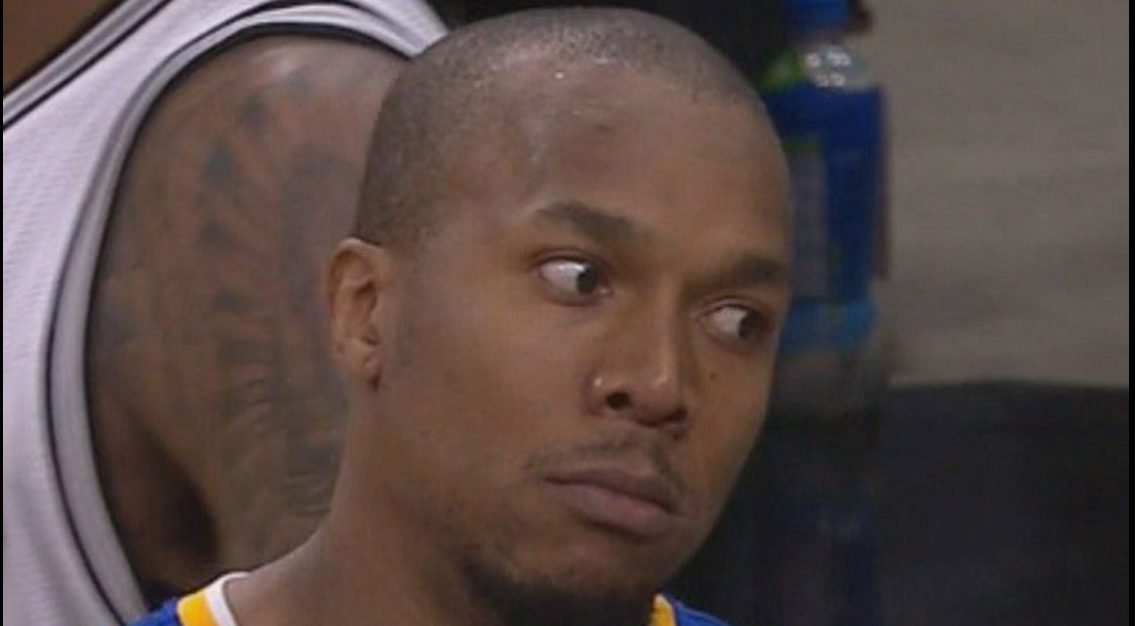angry: (483, 165, 788, 589)
